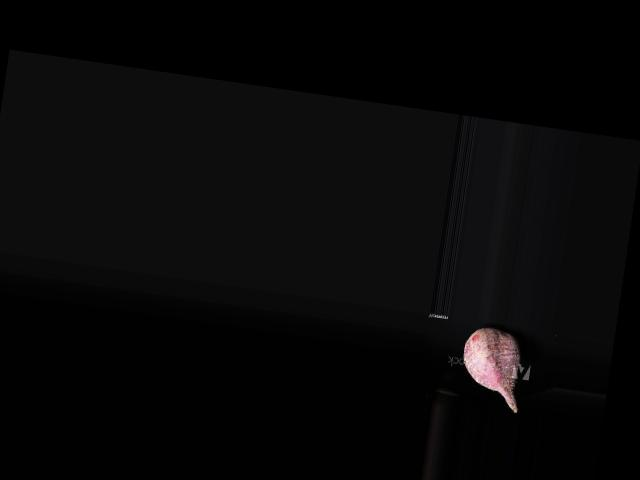beet: (455, 324, 527, 412)
